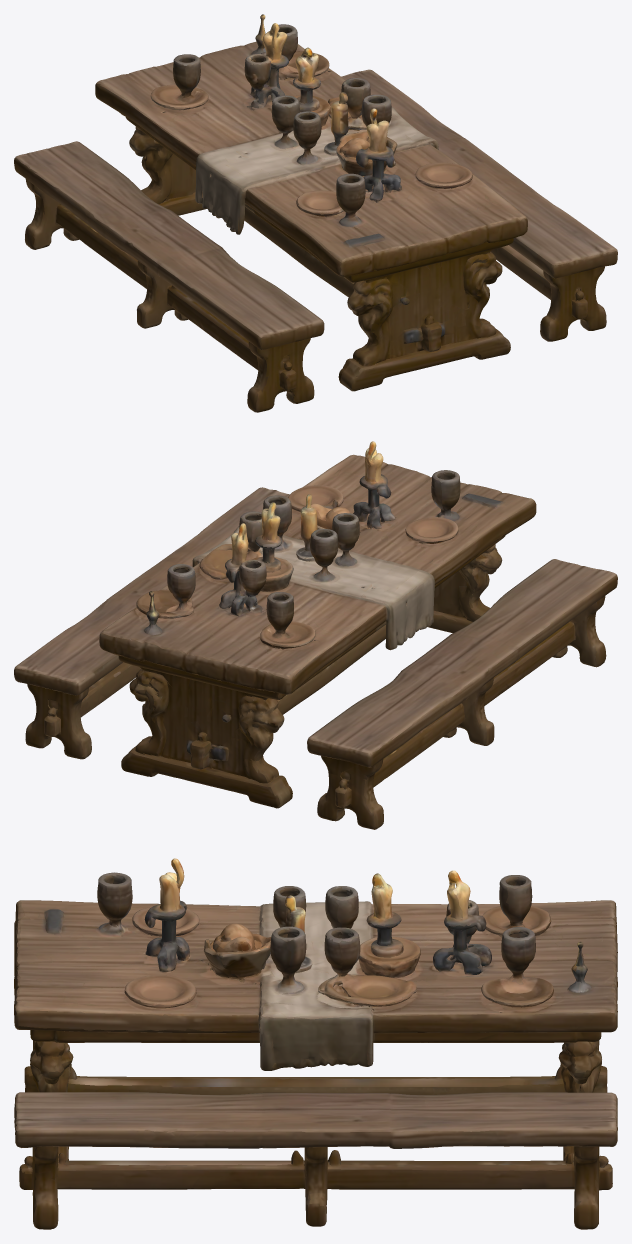
The model's file is chandelier.glb.
The picture shows the model from 3 angles, top to bottom: view 1: azimuth 30°, elevation 25°; view 2: azimuth 150°, elevation 25°; view 3: azimuth 270°, elevation 25°; orthographic projection. The views are drawn at different scales.
Parts seen in each view (by area): view 1: geometry_0; view 2: geometry_0; view 3: geometry_0.
Boxes of the visible parts, x1,y1,x2,y2 form: geometry_0: (14,14,617,412); geometry_0: (14,441,617,829); geometry_0: (14,858,617,1229).
Bounding box in the file's own units: 2.4 × 1.42 × 2.86.
Materials: 1 (1 with a texture image).
